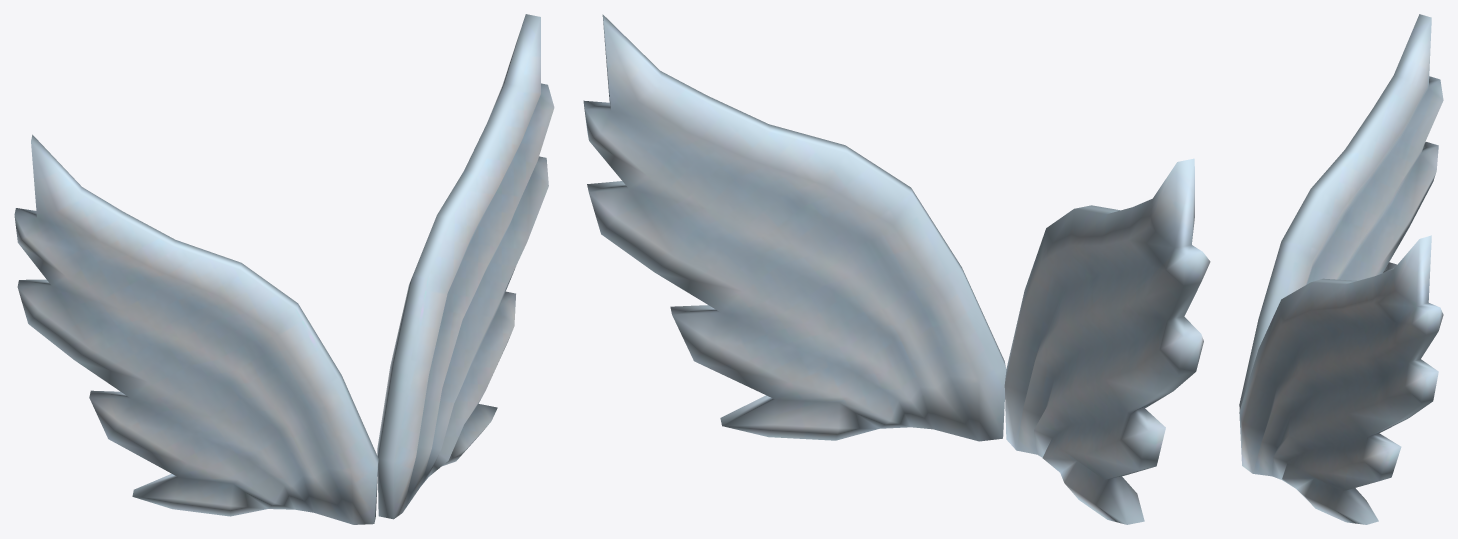
Rendered from chibang.fbx.
3 views of the same model, side by side, from view 1: azimuth 30°, elevation 25°; view 2: azimuth 150°, elevation 25°; view 3: azimuth 270°, elevation 25° (orthographic). The views are drawn at different scales.
Parts seen in each view (by area): view 1: chibang; view 2: chibang; view 3: chibang.
Part boxes in pixels (<box>): chibang: <box>14,14,554,524</box>; chibang: <box>583,14,1210,524</box>; chibang: <box>1239,14,1443,524</box>.
Bounding box in the file's own units: 106 × 70.72 × 38.88.
1 material, 1 textured.
